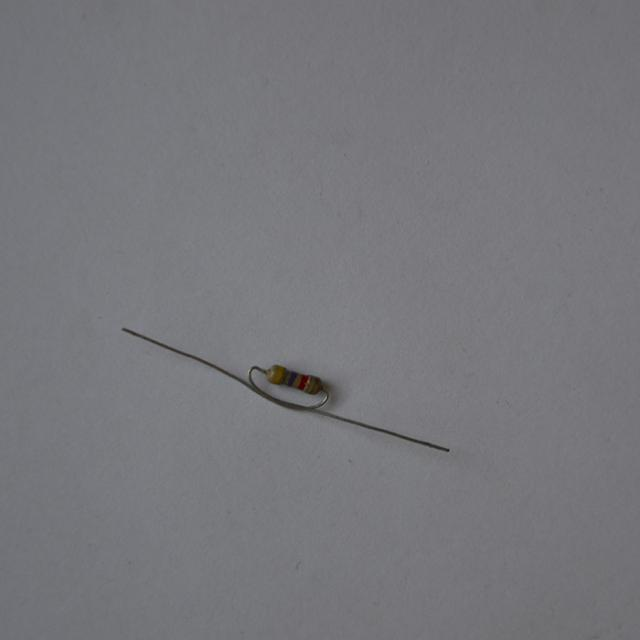gold: (306, 377, 320, 394)
red: (296, 376, 306, 389)
resistor: (259, 343, 342, 405)
violet: (287, 371, 296, 385)
yellow: (274, 367, 283, 384)
